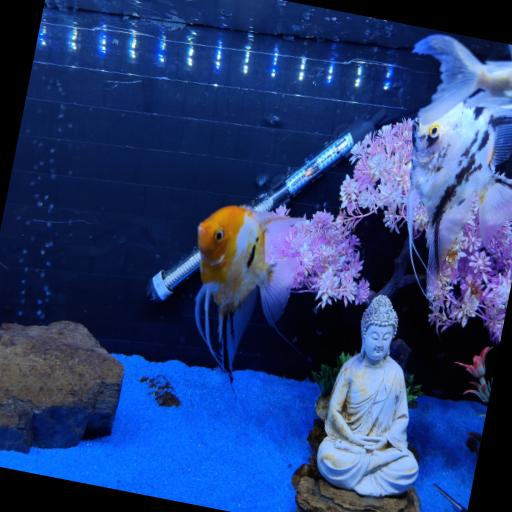Fish: (407, 102, 511, 298), (195, 206, 298, 382), (414, 34, 511, 124)
